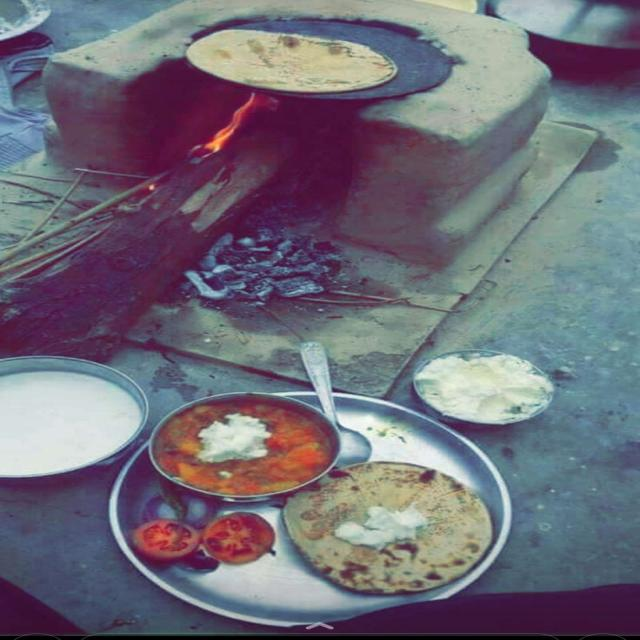fire: (204, 91, 255, 152)
